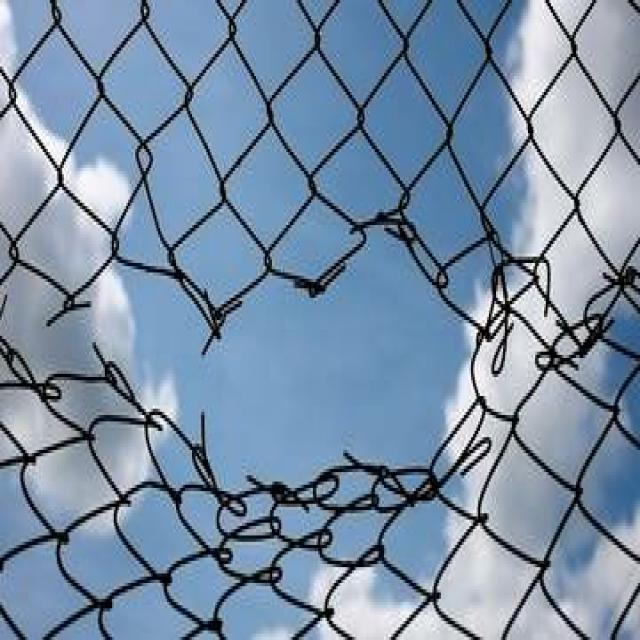fence line: (6, 244, 483, 510)
